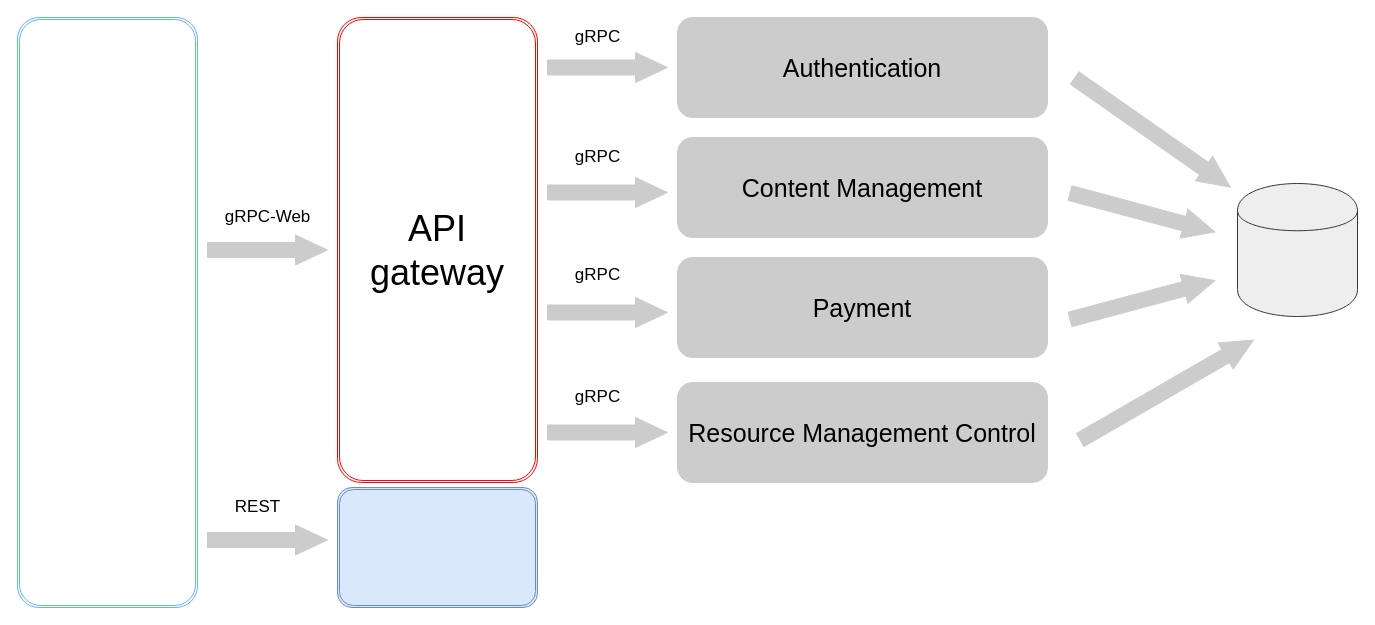
This 1375x625 diagram has some shape labels left out. The centre of each missing label's shape, as x and y in pixels:
"Client" goes at pixel 107 312.
"PostgreSQL" goes at pixel 1297 249.
"Resource Management (Static Content)" goes at pixel 437 547.
